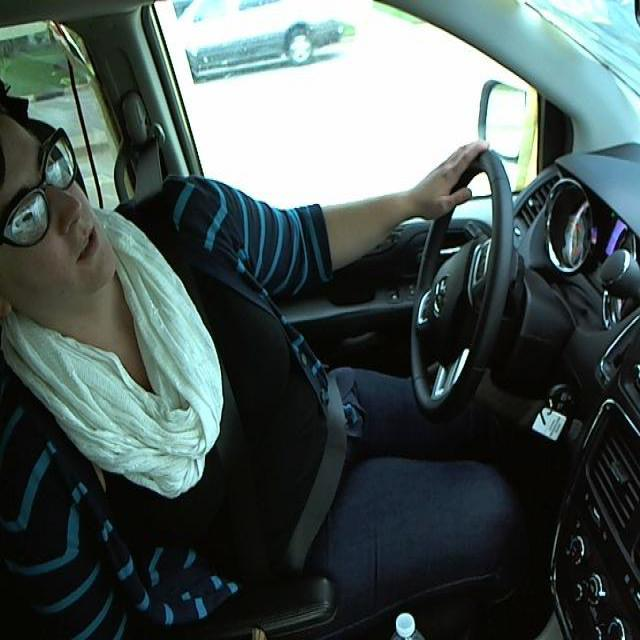seatbelt: (156, 220, 349, 548)
